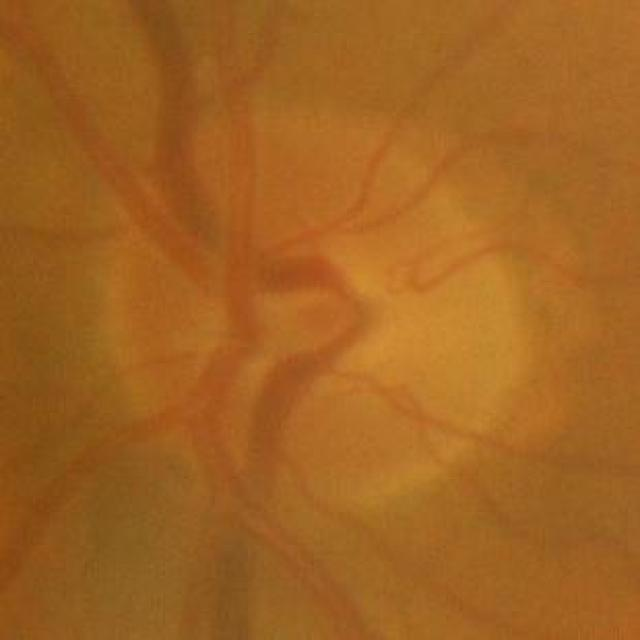OC: (205, 233, 448, 460)
OD: (95, 100, 544, 570)
